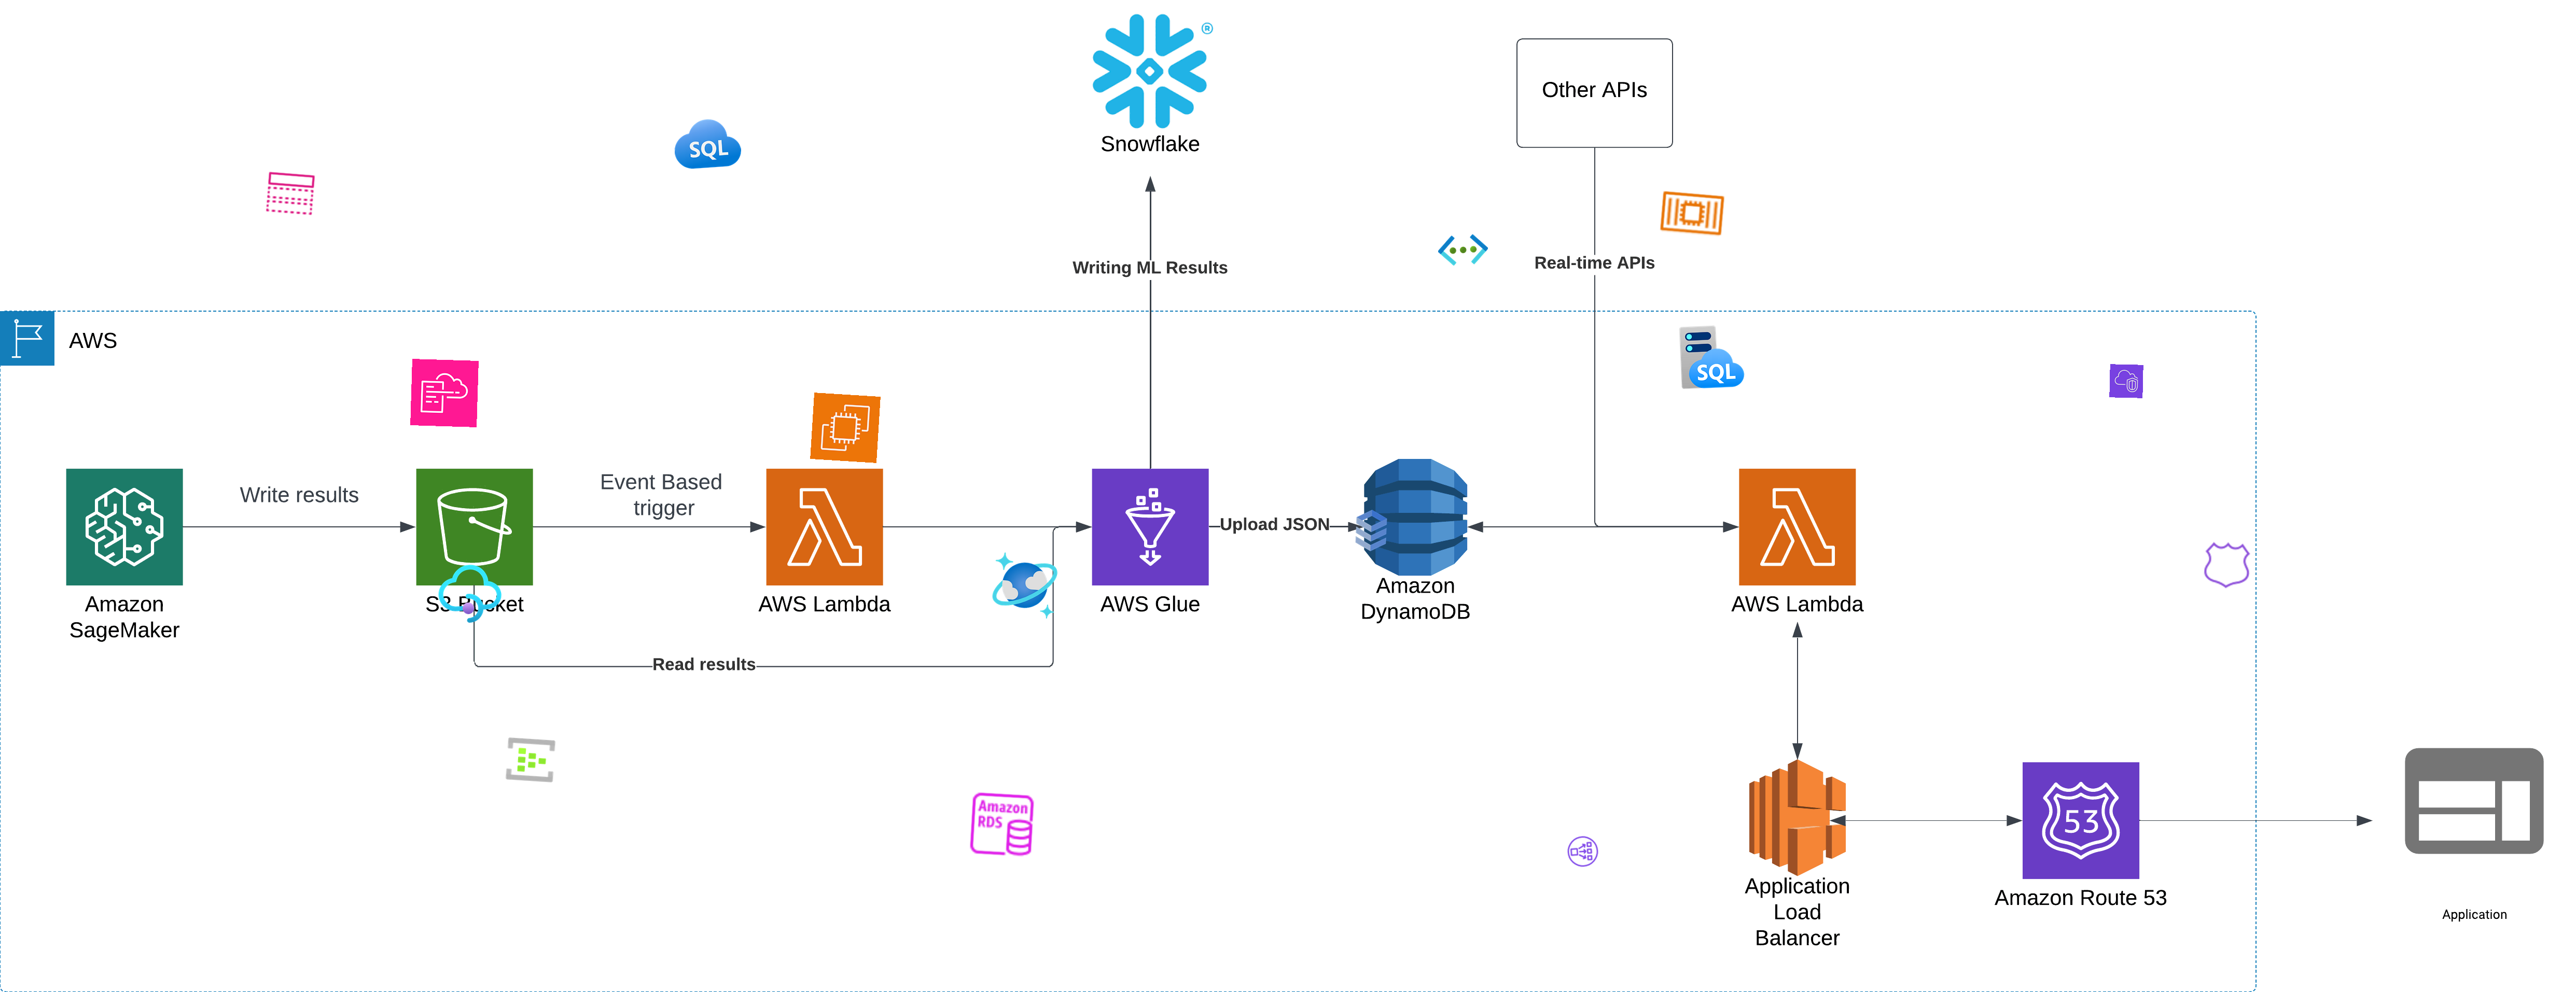aws_amazon_ec2: (810, 393, 881, 463)
aws_amazon_virtual_private_cloud: (2109, 365, 2144, 397)
aws_aurora_amazon_rds_instance: (966, 790, 1037, 859)
aws_cloudformation: (411, 358, 478, 427)
aws_elastic_container_service_container_2: (1656, 177, 1728, 250)
aws_elastic_load_balancing_network_load_balancer: (1566, 834, 1600, 869)
aws_route_53_hosted_zone: (2201, 539, 2254, 591)
aws_simple_notification_service_topic: (263, 166, 317, 220)
azure_api_management_services: (435, 558, 504, 629)
azure_cosmos_db: (989, 549, 1061, 622)
azure_event_hubs: (504, 733, 557, 787)
azure_sql: (672, 108, 743, 181)
azure_sql_managed_instance: (1677, 322, 1746, 391)
azure_virtual_networks: (1436, 223, 1490, 276)
gcp_cloud_sql: (1345, 504, 1398, 557)
